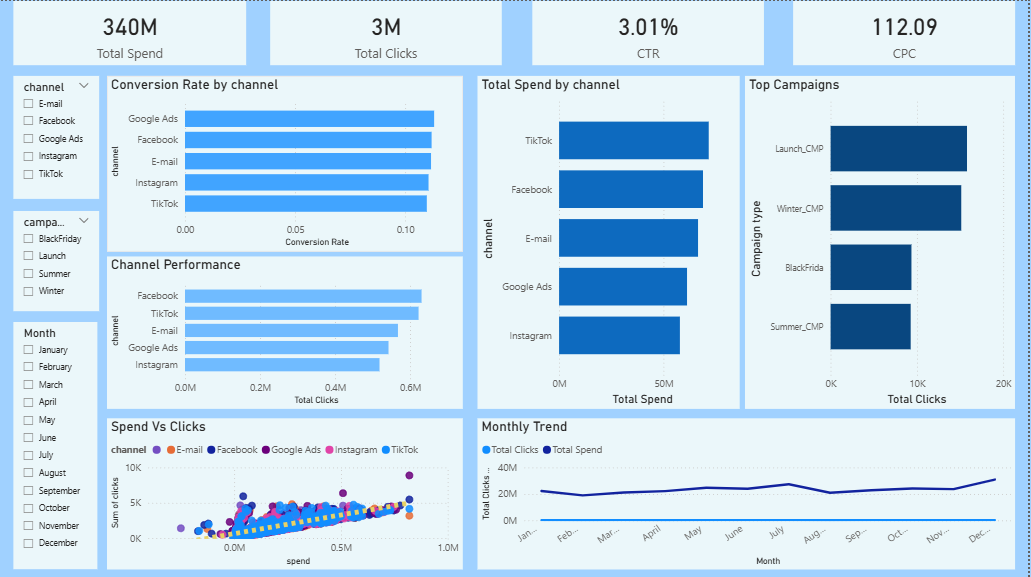

The page's visual inventory and layout, read from the dashboard file:
{"tool":"powerbi","page":{"name":"Page 1","canvas":[1280,720],"ordinal":0},"visuals":[{"type":"barChart","title":"Channel Performance","fields":{"Category":["Cleaned_marketing_campaign.channel"],"Y":["Cleaned_marketing_campaign.Total Clicks"]},"box":[133.3,318.3,443.3,190],"z":0},{"type":"clusteredBarChart","title":"Top Campaigns","fields":{"Category":["Cleaned_marketing_campaign.Campaign type"],"Y":["Cleaned_marketing_campaign.Total Clicks"]},"box":[928.3,93.3,336.7,415],"z":1000},{"type":"scatterChart","title":"Spend Vs Clicks","fields":{"Series":["Cleaned_marketing_campaign.channel"],"Y":["Sum(Cleaned_marketing_campaign.clicks)"],"X":["Cleaned_marketing_campaign.spend"]},"box":[133.3,520,443.3,188.3],"z":2000},{"type":"lineChart","title":"Monthly Trend","fields":{"Y":["Cleaned_marketing_campaign.Total Clicks","Cleaned_marketing_campaign.Total Spend"],"Category":["Cleaned_marketing_campaign.start_date.Variation.Date Hierarchy.Month"]},"box":[595,520,670,188.3],"z":3000},{"type":"card","fields":{"Values":["Cleaned_marketing_campaign.Total Spend"]},"box":[123.3,0,183.3,80],"z":4000},{"type":"card","fields":{"Values":["Cleaned_marketing_campaign.Total Clicks"]},"box":[430,0,183.3,80],"z":5000},{"type":"card","fields":{"Values":["Cleaned_marketing_campaign.CTR"]},"box":[758.3,0,183.3,80],"z":6000},{"type":"card","fields":{"Values":["Cleaned_marketing_campaign.CPC"]},"box":[1078.3,0,186.7,80],"z":7000},{"type":"barChart","fields":{"Category":["Cleaned_marketing_campaign.channel"],"Y":["Cleaned_marketing_campaign.Total Spend"]},"box":[595,93.3,326.7,415],"z":8000},{"type":"barChart","fields":{"Category":["Cleaned_marketing_campaign.channel"],"Y":["Cleaned_marketing_campaign.Conversion Rate"]},"box":[133.3,93.3,443.3,218.3],"z":9000},{"type":"slicer","fields":{"Values":["Cleaned_marketing_campaign.channel"]},"box":[16.7,93.3,106.7,153.3],"z":10000},{"type":"slicer","fields":{"Values":["Cleaned_marketing_campaign.campaign_type"]},"box":[16.7,261.7,106.7,125],"z":11000},{"type":"slicer","fields":{"Values":["Cleaned_marketing_campaign.start_date.Variation.Date Hierarchy.Month"]},"box":[16.7,400,105,308.3],"z":12000}]}

Visuals, with their boxes in screenshot pixels (x1, y1, x2, y2), scaled from the page's 1280x720 canvas onto the 1031x577 screenshot:
"Channel Performance" barChart: (107,255,464,407)
"Top Campaigns" clusteredBarChart: (748,75,1019,407)
"Spend Vs Clicks" scatterChart: (107,417,464,568)
"Monthly Trend" lineChart: (479,417,1019,568)
card - Cleaned_marketing_campaign.Total Spend: (99,0,247,64)
card - Cleaned_marketing_campaign.Total Clicks: (346,0,494,64)
card - Cleaned_marketing_campaign.CTR: (611,0,758,64)
card - Cleaned_marketing_campaign.CPC: (869,0,1019,64)
barChart - Cleaned_marketing_campaign.channel x Cleaned_marketing_campaign.Total Spend: (479,75,742,407)
barChart - Cleaned_marketing_campaign.channel x Cleaned_marketing_campaign.Conversion Rate: (107,75,464,250)
slicer - Cleaned_marketing_campaign.channel: (13,75,99,198)
slicer - Cleaned_marketing_campaign.campaign_type: (13,210,99,310)
slicer - Cleaned_marketing_campaign.start_date.Variation.Date Hierarchy.Month: (13,321,98,568)
